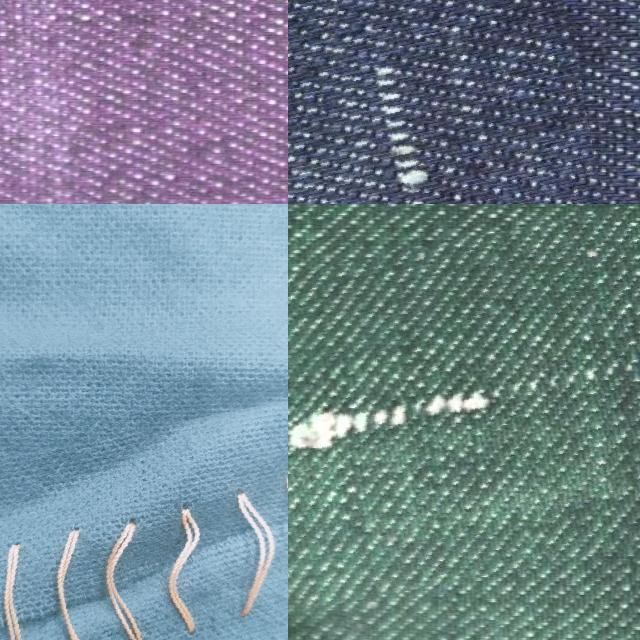Thread_out: (0, 400, 288, 640)
stains: (288, 221, 640, 600), (288, 0, 621, 204)
